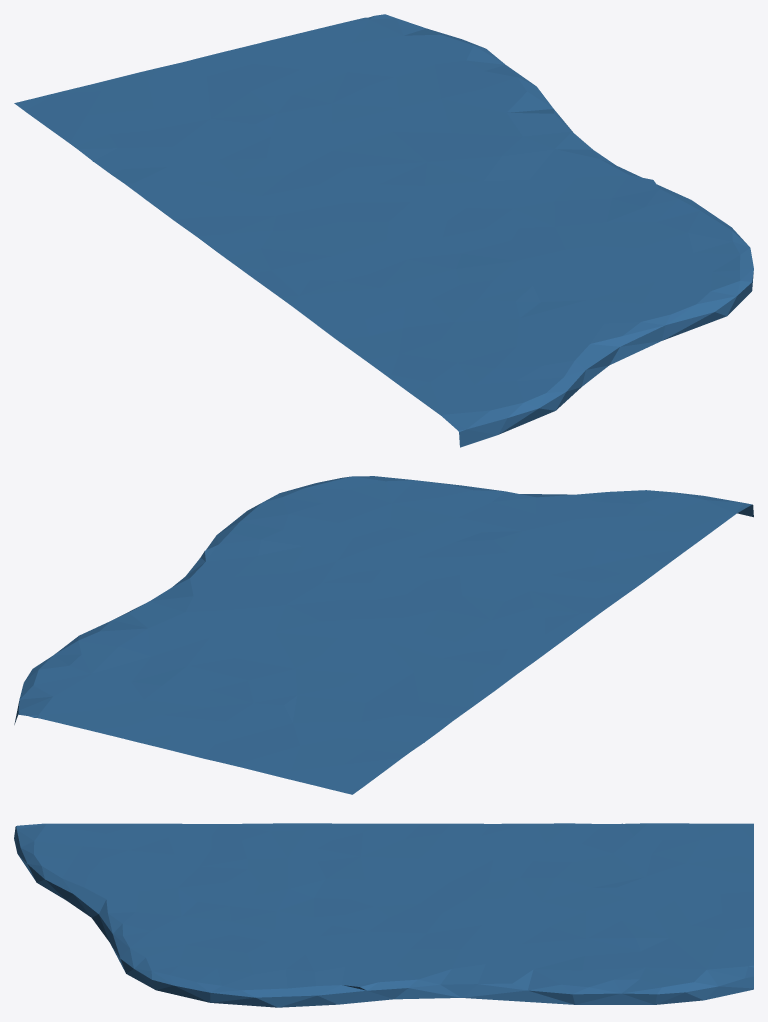
The model's file is 5Turns_Level2_flood_model_model.fbx.
3 views of the same model, one above another, from view 1: azimuth 30°, elevation 25°; view 2: azimuth 150°, elevation 25°; view 3: azimuth 270°, elevation 25° (orthographic). The views are drawn at different scales.
Parts seen in each view (by area): view 1: BezierCurve.001; view 2: BezierCurve.001; view 3: BezierCurve.001.
Part boxes in pixels (<box>): BezierCurve.001: <box>14,14,753,447</box>; BezierCurve.001: <box>14,476,753,794</box>; BezierCurve.001: <box>14,823,753,1007</box>.
Bounding box in the file's own units: 117 × 4.95 × 216.
